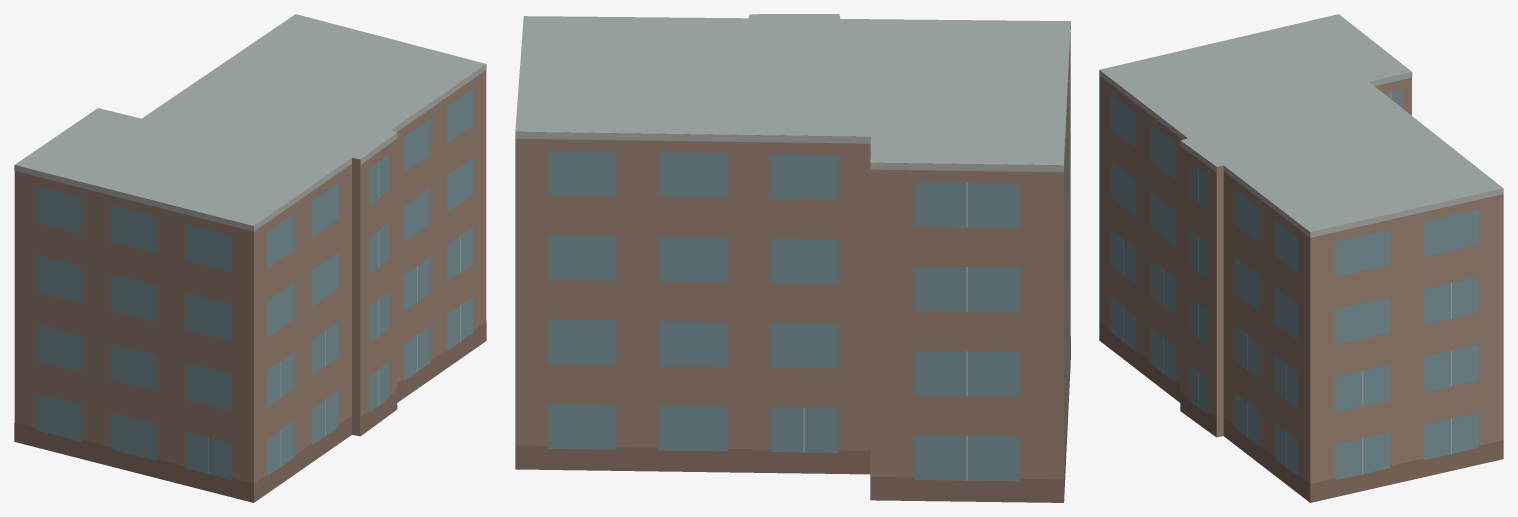
File: survey-upis-32763804.glb
3 views of the same model, side by side, from view 1: azimuth 30°, elevation 25°; view 2: azimuth 150°, elevation 25°; view 3: azimuth 270°, elevation 25° (orthographic). The views are drawn at different scales.
Visible parts, largest first — view 1: survey-upis-32763804.tmp; view 2: survey-upis-32763804.tmp; view 3: survey-upis-32763804.tmp.
Boxes of the visible parts, x1,y1,x2,y2 form: survey-upis-32763804.tmp: (14,14,486,502); survey-upis-32763804.tmp: (515,14,1070,502); survey-upis-32763804.tmp: (1099,14,1503,502).
Size of the model in its own units: 20.24 by 11.7 by 15.85.
